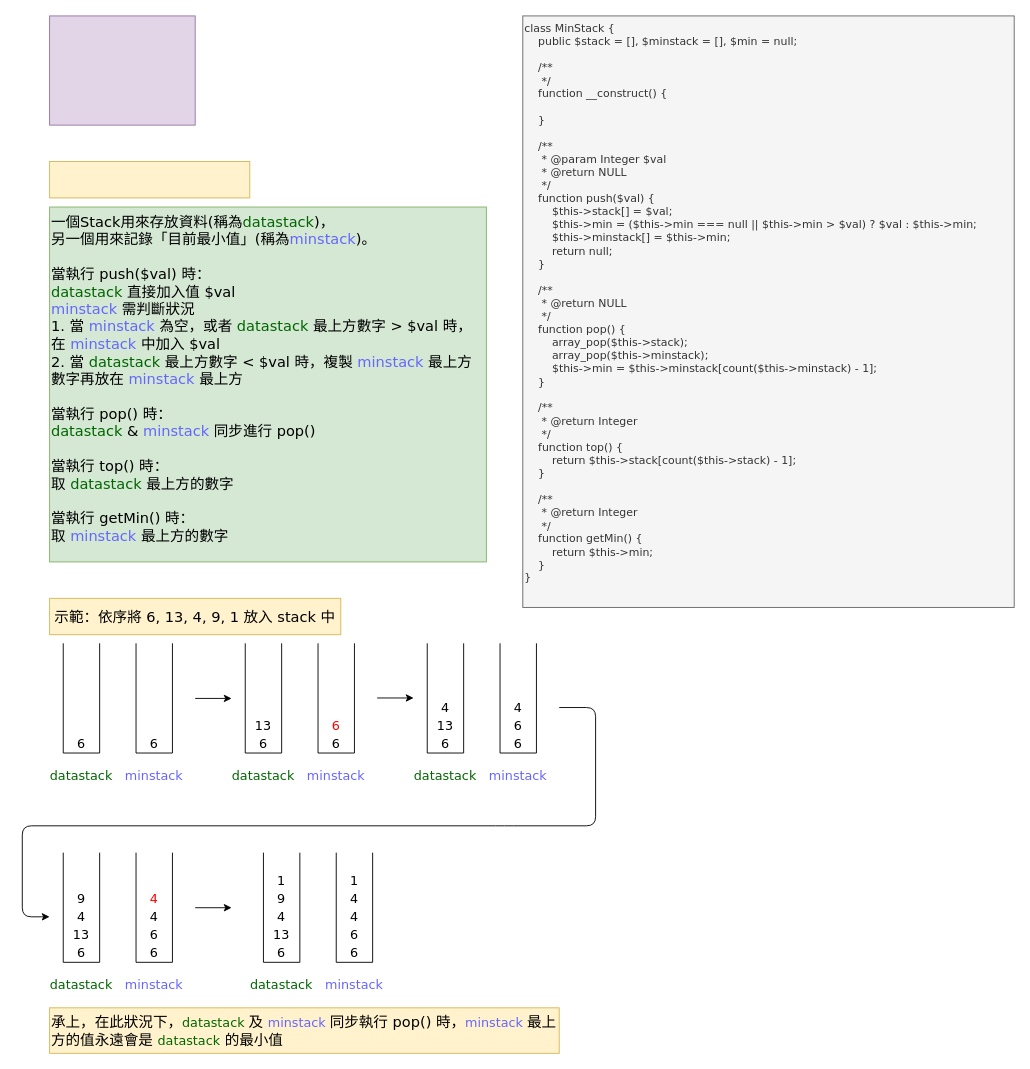
The diagram is 1030 pixels wide and 1069 high, and some of its shapes have lost their labels. Here are the shapes that lost their labels. From the top down, the centre of each, then its label:
point (122, 70): 需要提供四種方法 1. push($val) 2. pop() 3. top():int 4. getMin():int
point (149, 179): 以兩個Stack來實作MinStack
